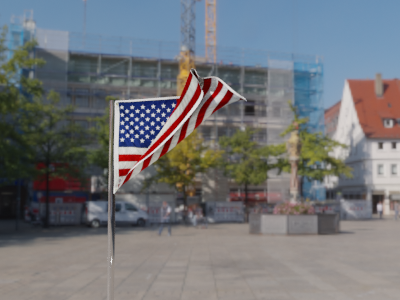America flag: (111, 67, 250, 193)
